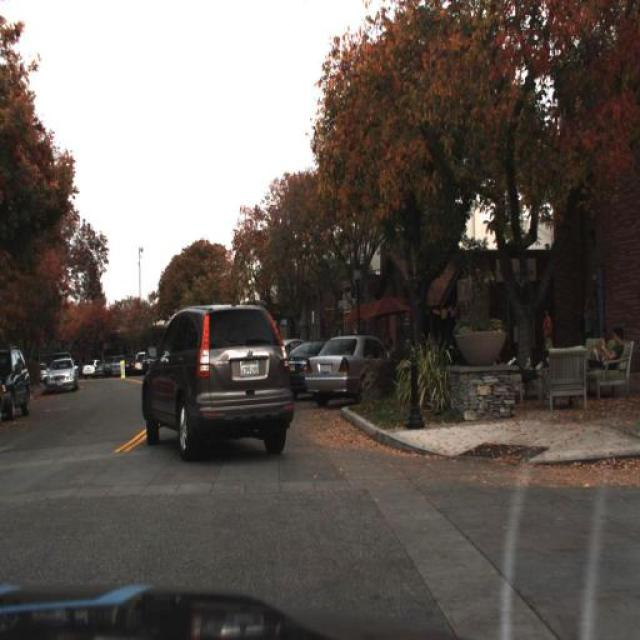car: (137, 294, 297, 458), (306, 328, 390, 408), (1, 340, 30, 420), (286, 338, 319, 396), (46, 354, 79, 390), (81, 360, 95, 380)
trafficLight: (582, 326, 624, 373), (427, 318, 441, 372), (541, 307, 557, 354), (581, 294, 595, 337)
